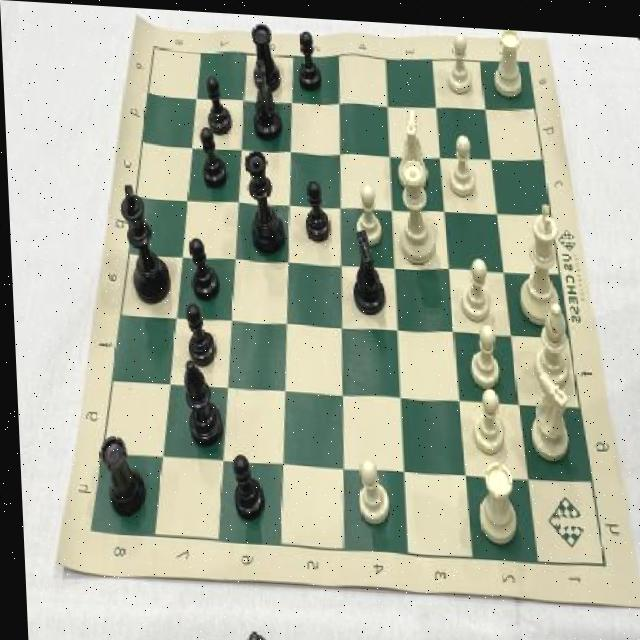bishop: (175, 357, 224, 446)
black-bishop: (116, 176, 172, 308)
black-king: (347, 224, 386, 318), (247, 53, 283, 141)
black-knight: (226, 447, 265, 524), (179, 297, 216, 368), (183, 231, 219, 301), (196, 119, 229, 188), (294, 23, 326, 94), (297, 172, 329, 240), (203, 68, 234, 137)
black-pawn: (241, 142, 284, 257)
black-queen: (92, 430, 147, 518), (248, 16, 281, 92)
black-rook: (528, 293, 572, 383)
white-bishop: (512, 194, 564, 320)
white-king: (524, 364, 575, 458), (392, 100, 429, 184)
white-knight: (349, 451, 387, 528), (465, 381, 505, 453), (454, 248, 495, 317), (463, 317, 502, 384), (349, 175, 383, 244), (443, 125, 477, 193), (441, 25, 475, 92)
white-pawn: (391, 152, 436, 264)
white-queen: (471, 452, 516, 538), (489, 23, 530, 95)
